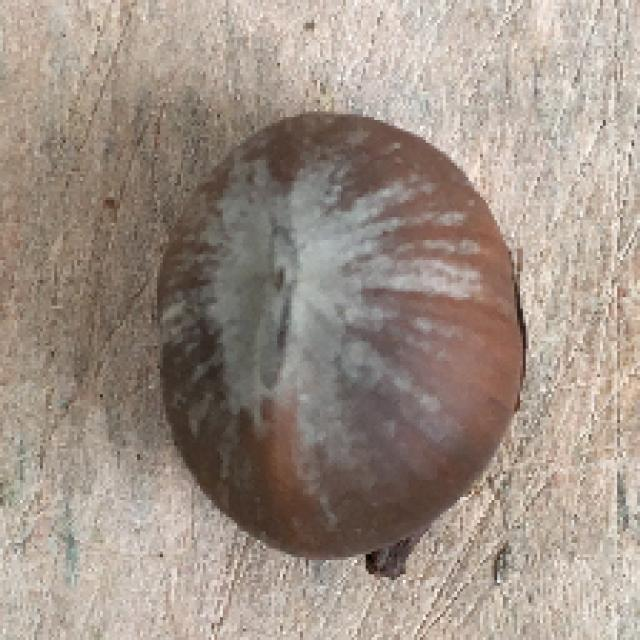damagedHazelnut: (138, 106, 544, 569)
